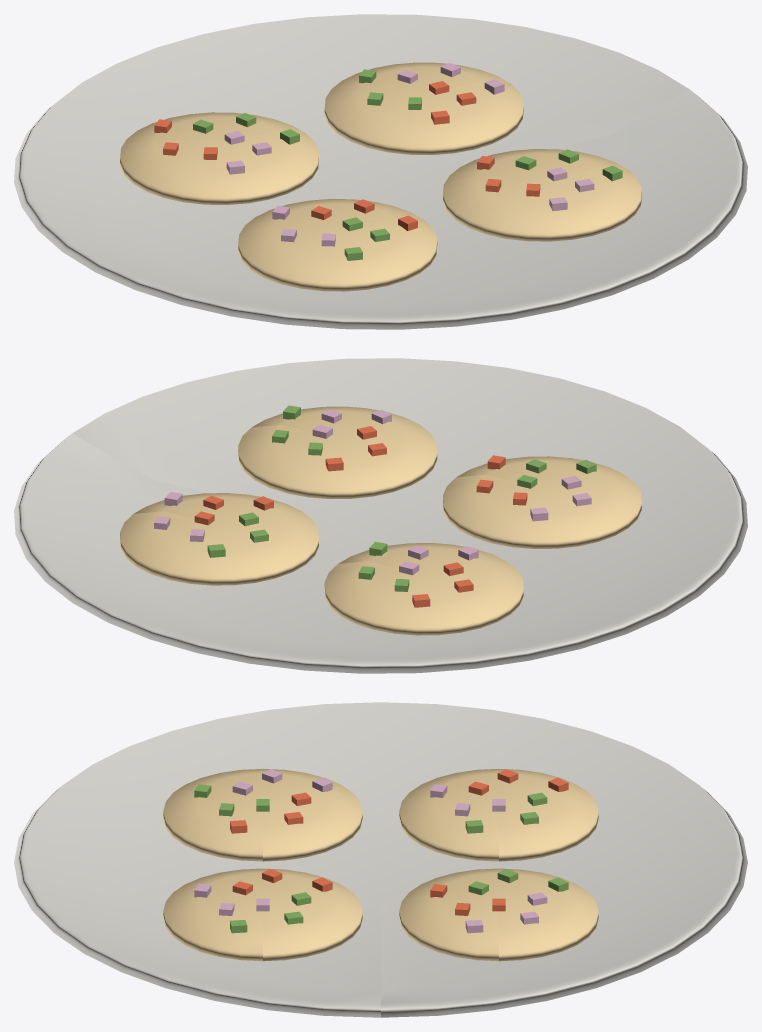
File: mini-uttapam.glb
3 views of the same model, one above another, from view 1: azimuth 30°, elevation 25°; view 2: azimuth 150°, elevation 25°; view 3: azimuth 270°, elevation 25° (orthographic).
Parts seen in each view (by area): view 1: mini-uttapam; view 2: mini-uttapam; view 3: mini-uttapam.
Boxes of the visible parts, x1=… form: mini-uttapam: x1=14, y1=14, x2=747, y2=329; mini-uttapam: x1=14, y1=358, x2=747, y2=673; mini-uttapam: x1=14, y1=702, x2=747, y2=1017.
Size of the model in its own units: 0.28 by 0.0215 by 0.28.
